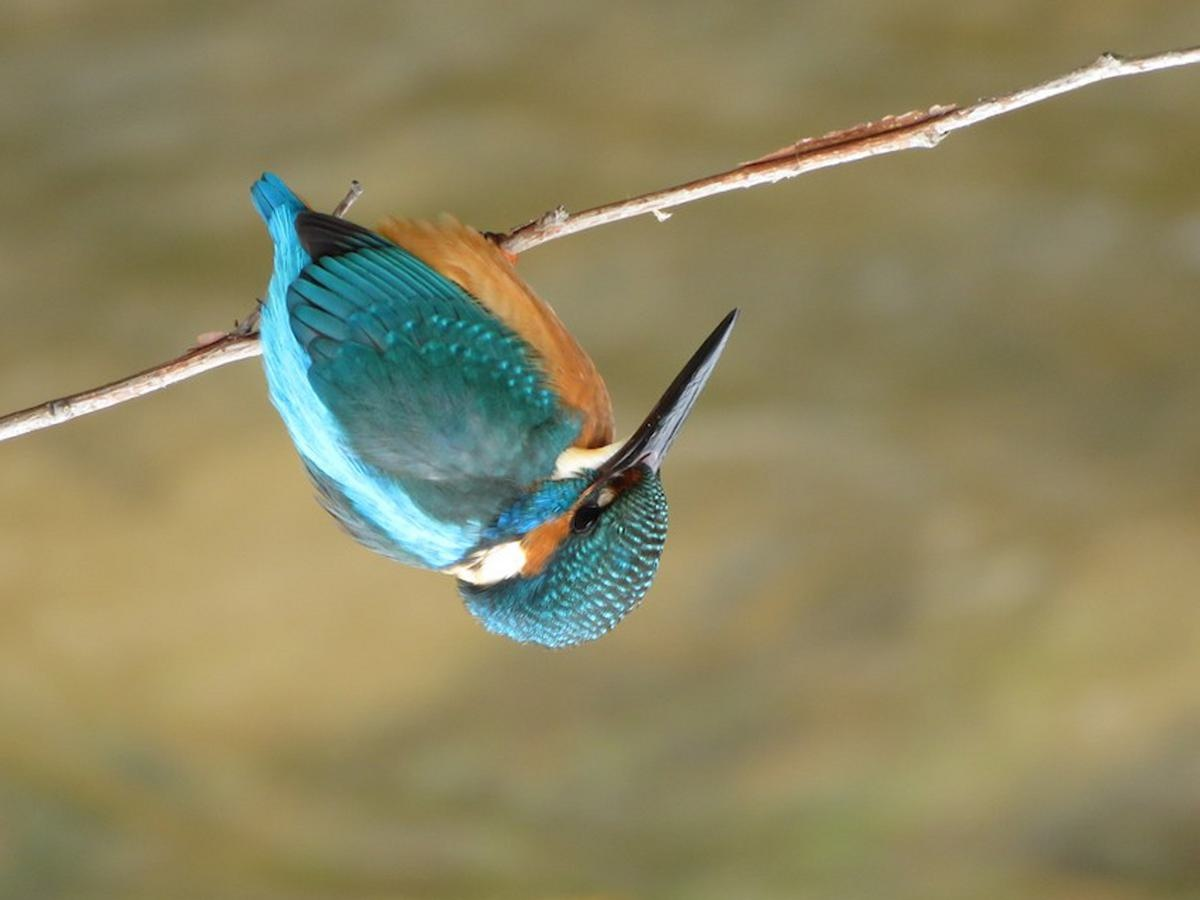kingfisher: (223, 161, 753, 671)
